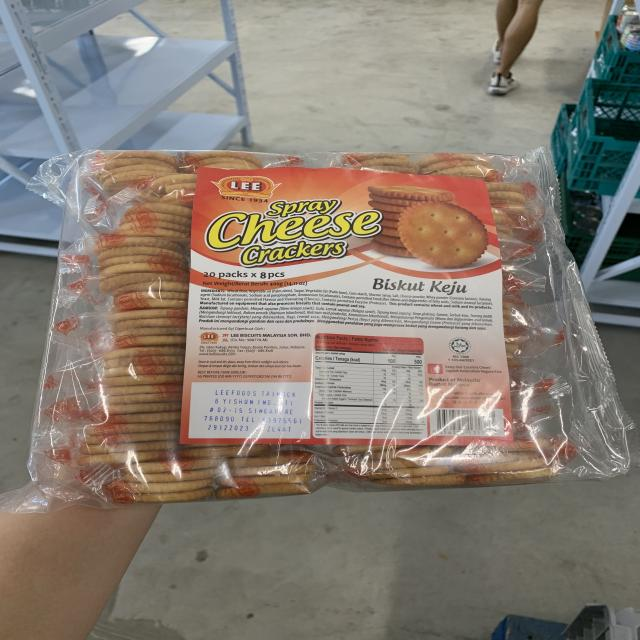object_name: (62, 157, 598, 481)
